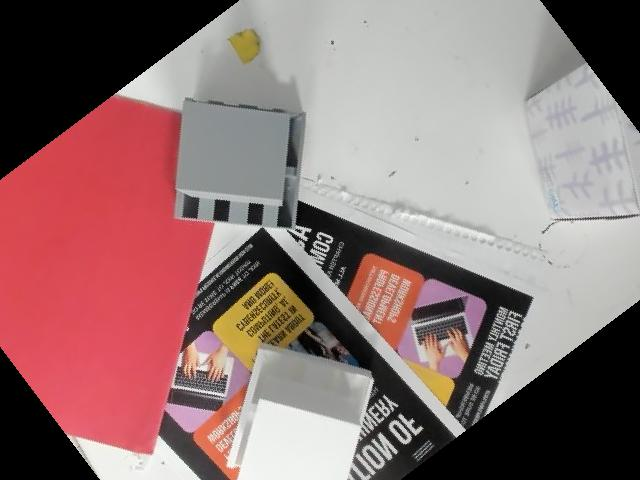grey pallet: (162, 84, 347, 243)
white pallet: (217, 329, 410, 480)
